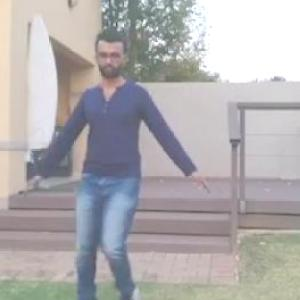land: (43, 46, 199, 299)
